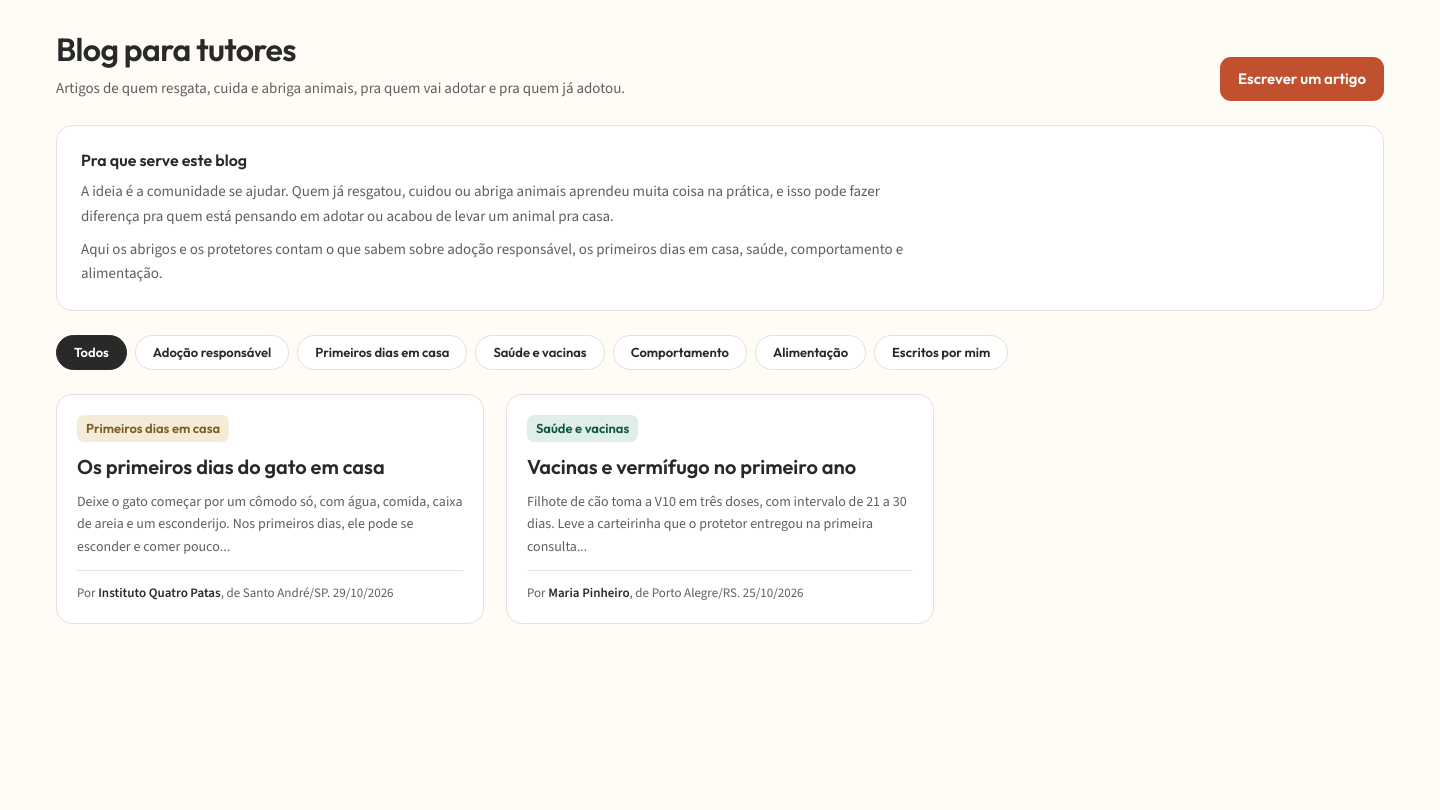
Test: protetor vê o Escrever um artigo e os artigos que ele mesmo escreveu
Click the button "Escritos por mim" at (941, 353), box [874, 335, 1008, 370]
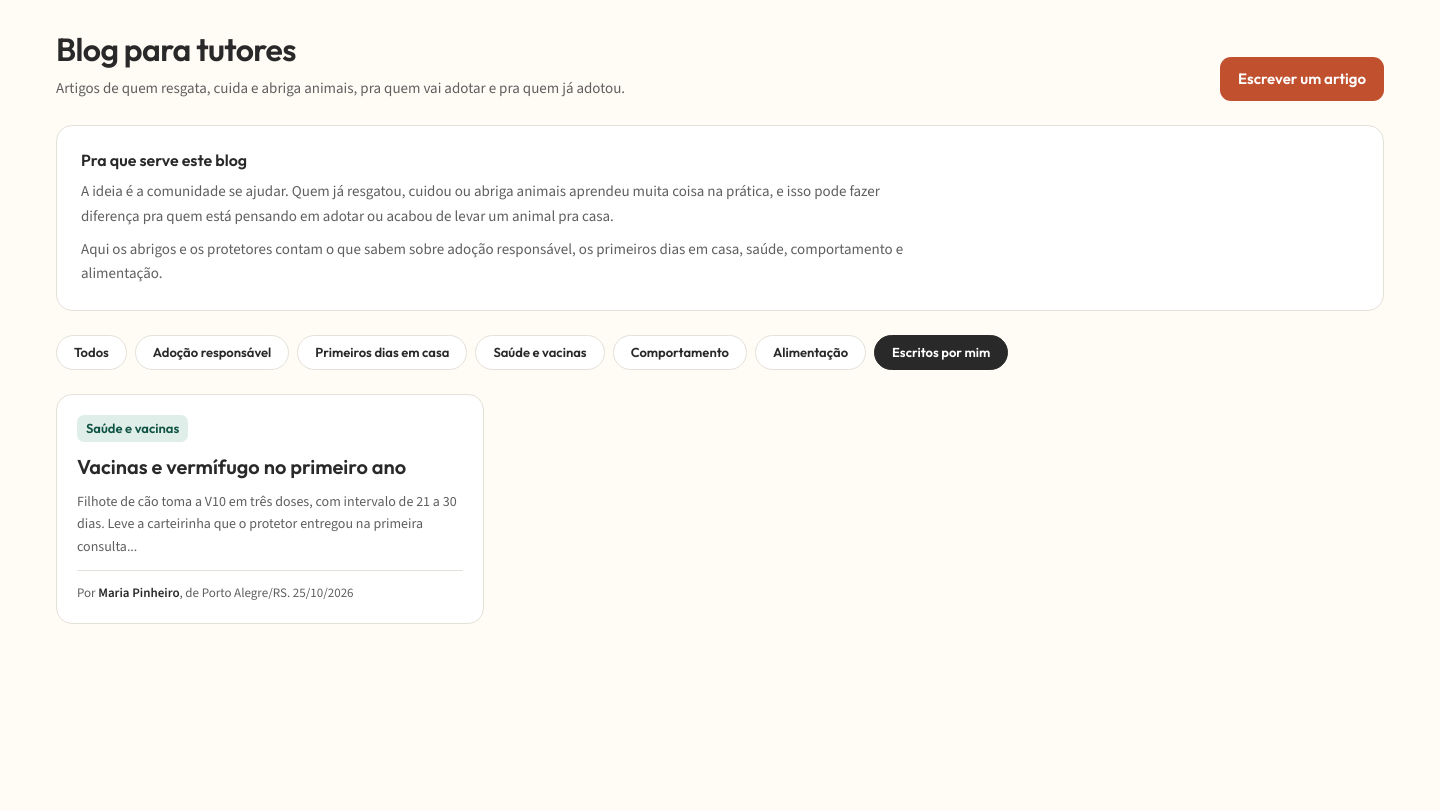
expect the link "Vacinas e vermífugo no primeiro ano" is shown: met, box [77, 454, 406, 479]
expect the link "Os primeiros dias do gato em casa" is gone: met
